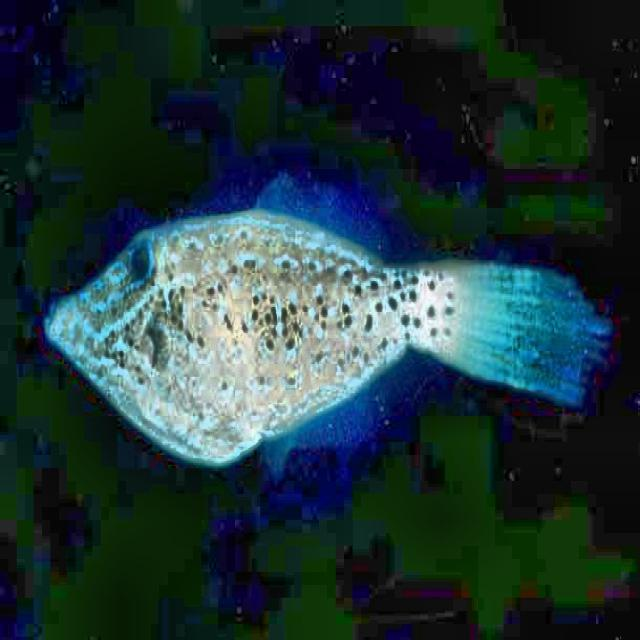fish: (37, 174, 611, 505)
